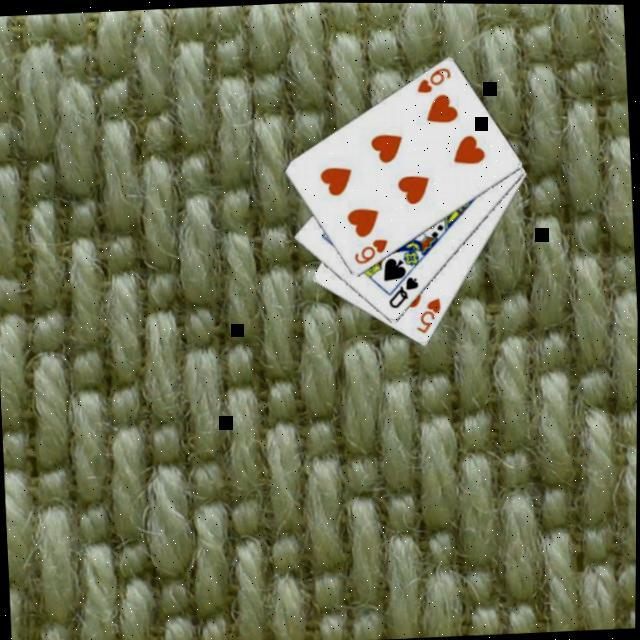5H: (410, 294, 444, 336)
6H: (349, 234, 392, 266), (412, 62, 454, 94)
QS: (384, 272, 422, 311)
